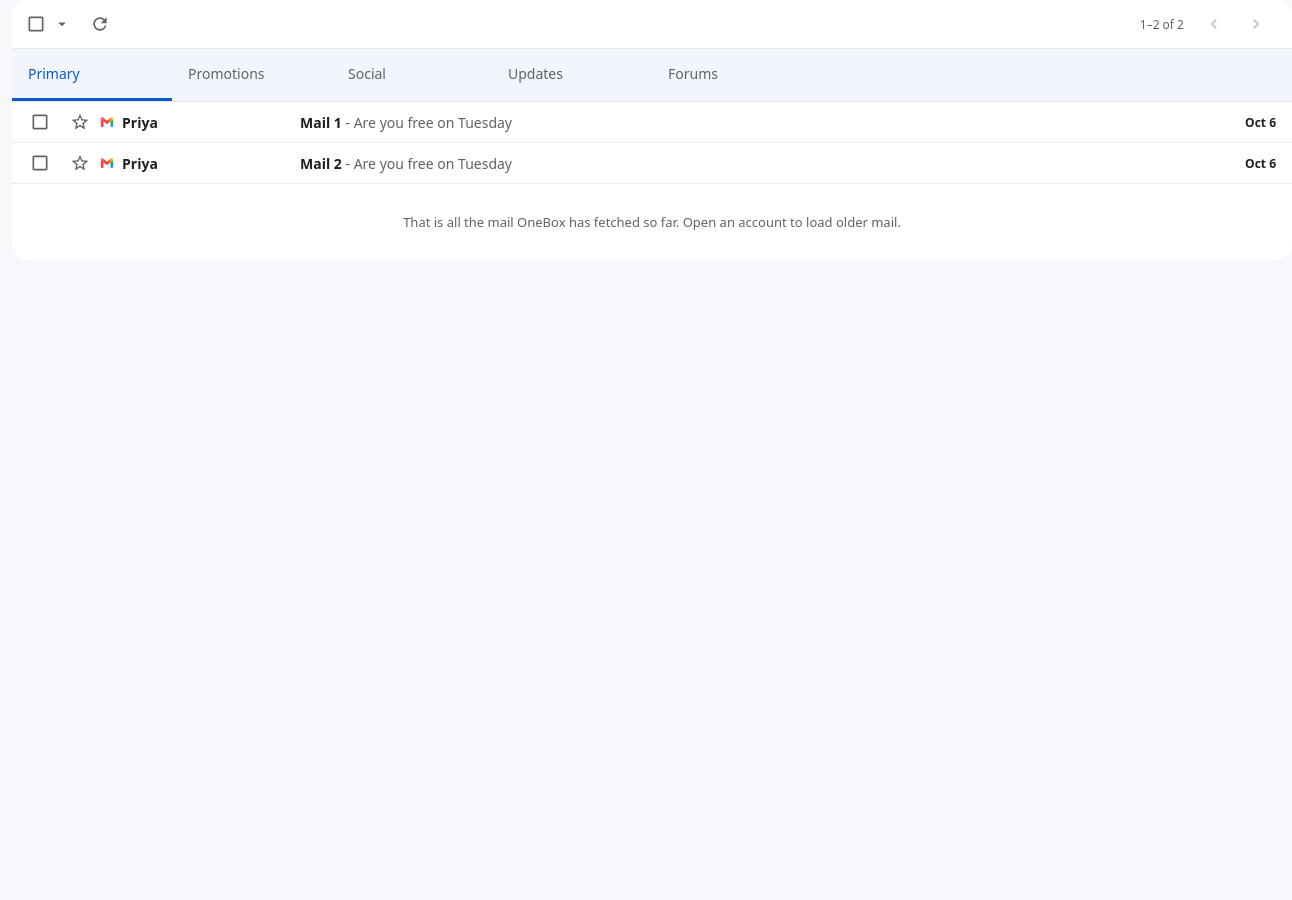
Test: conversation actions › reports the action and undoes it from the snackbar
Click the checkbox named "Select conversation" in the row of "Mail 1" at (40, 122), box [20,102,60,142]
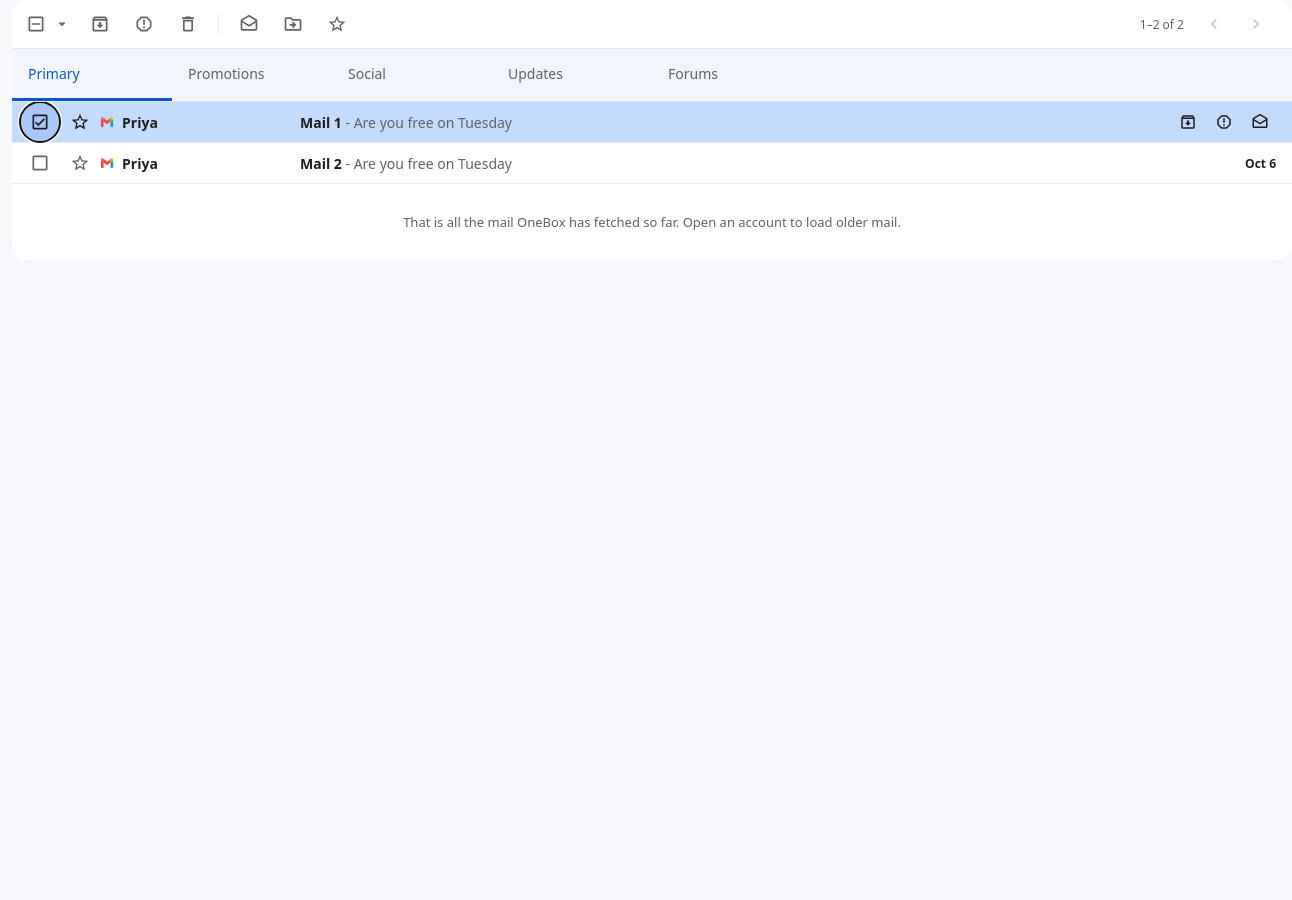
Click the button named "Delete" at (188, 24), box [168,4,208,44]
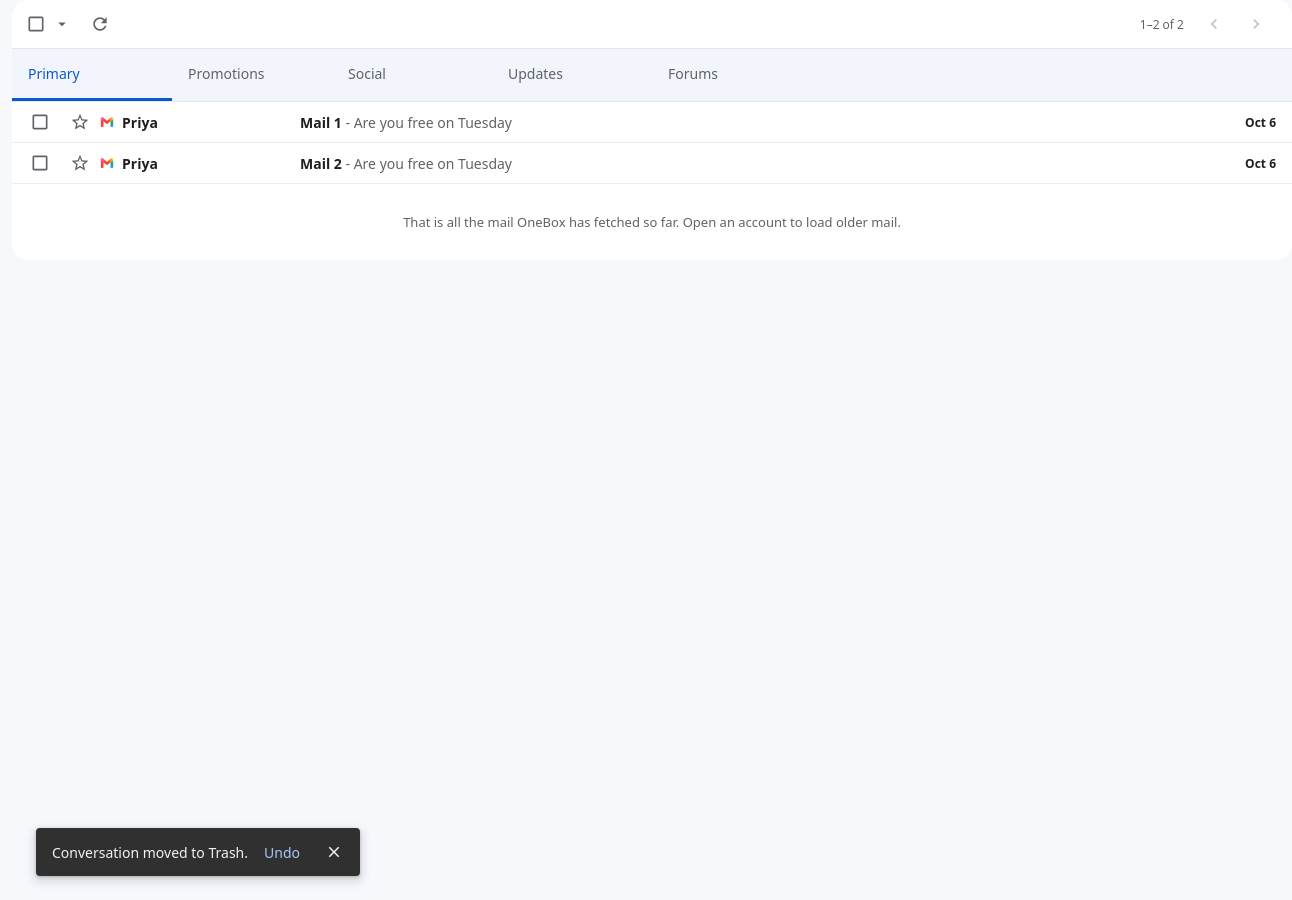
Check: the text "Conversation moved to Trash." is shown, box [52,842,248,862]
Click the button "Undo" at (282, 852), box [256,834,308,870]
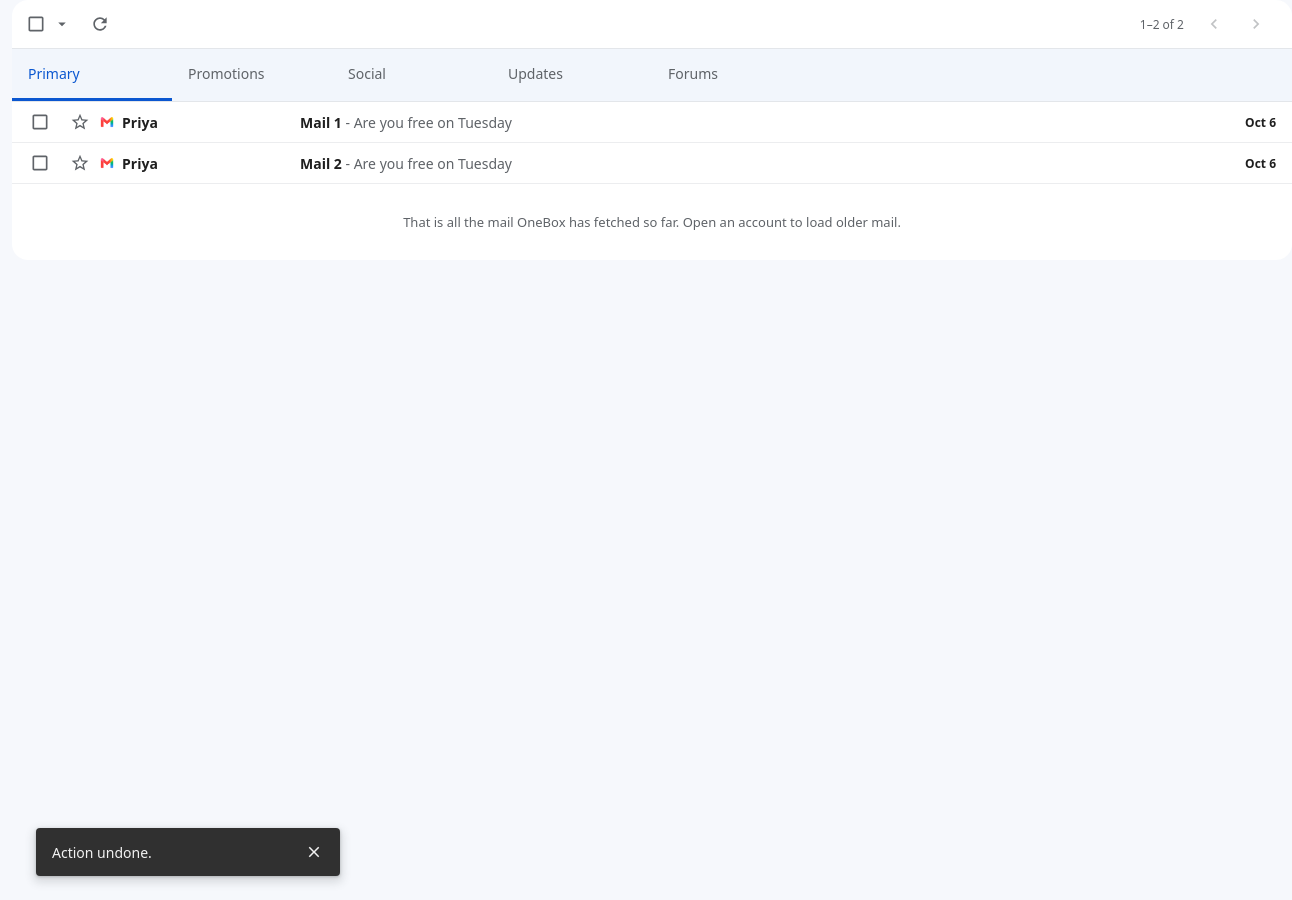
Check: the text "Action undone." is shown, box [52,842,152,862]
